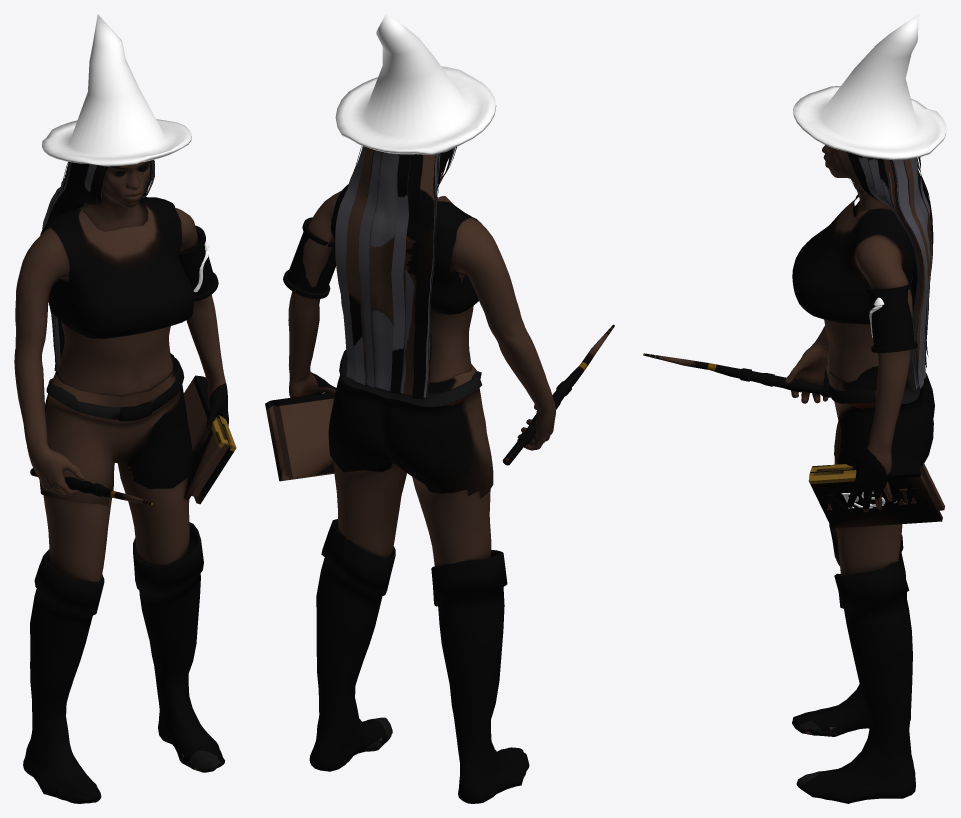
Rendered from witch-toon.obj.
3 renders of one model, left to right at view 1: azimuth 30°, elevation 25°; view 2: azimuth 150°, elevation 25°; view 3: azimuth 270°, elevation 25°, orthographic. The views are drawn at different scales.
Parts seen in each view (by area): view 1: BRA_Cube.001; view 2: BRA_Cube.001; view 3: BRA_Cube.001.
Boxes of the visible parts, x1,y1,x2,y2 form: BRA_Cube.001: [14, 14, 236, 803]; BRA_Cube.001: [265, 14, 614, 803]; BRA_Cube.001: [643, 14, 946, 803].
Size of the model in its own units: 2.03 by 6.27 by 2.3.
Materials: 1 (1 with a texture image).
